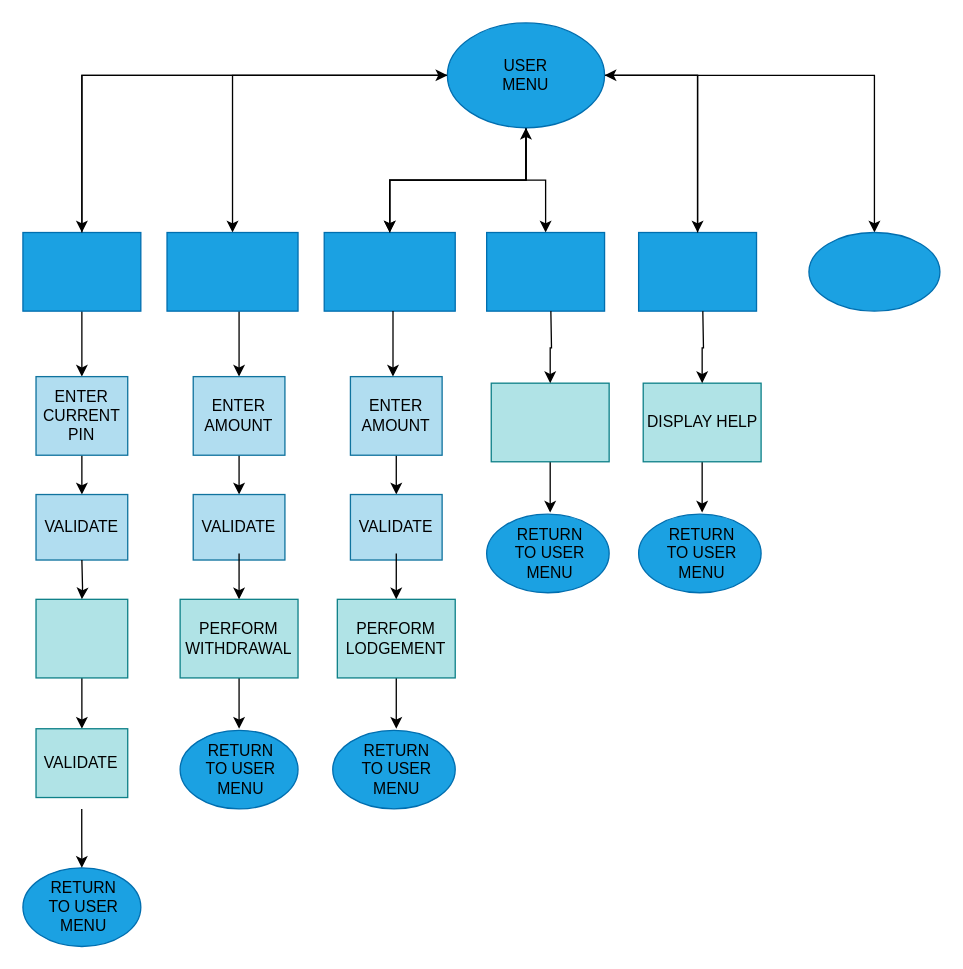
Image size: 963x969. Some labels were removed from this diagram. The box of each missing label's shape, as (x1, y1, x2, y2) in pixels:
CHANGE PIN: (22, 231, 141, 311)
DISPLAY STATEMENT: (490, 382, 609, 462)
ENTER NEW PIN: (35, 598, 128, 678)
EXIT: (808, 231, 940, 311)
HELP: (637, 231, 757, 311)
LODGEMENT: (323, 231, 455, 311)
STATEMENT: (485, 231, 605, 311)
WITHDRAWAL: (166, 231, 298, 311)
